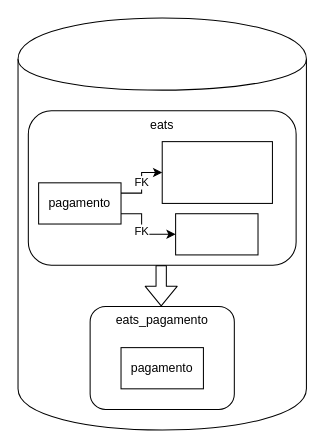
This 324x448 diagram has some shape labels left out. The centre of each missing label's shape, as x and y in pixels:
"forma_ de_ pagamento" goes at pixel 216 172.
"pedido" goes at pixel 216 234.
